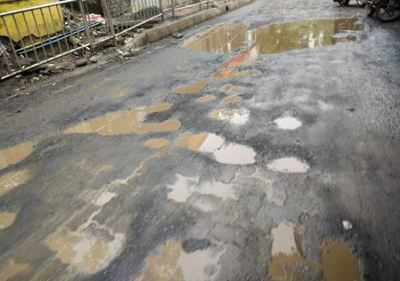pothole: (205, 14, 358, 52), (45, 212, 126, 275), (140, 230, 235, 279), (178, 121, 259, 172), (306, 225, 369, 279)
